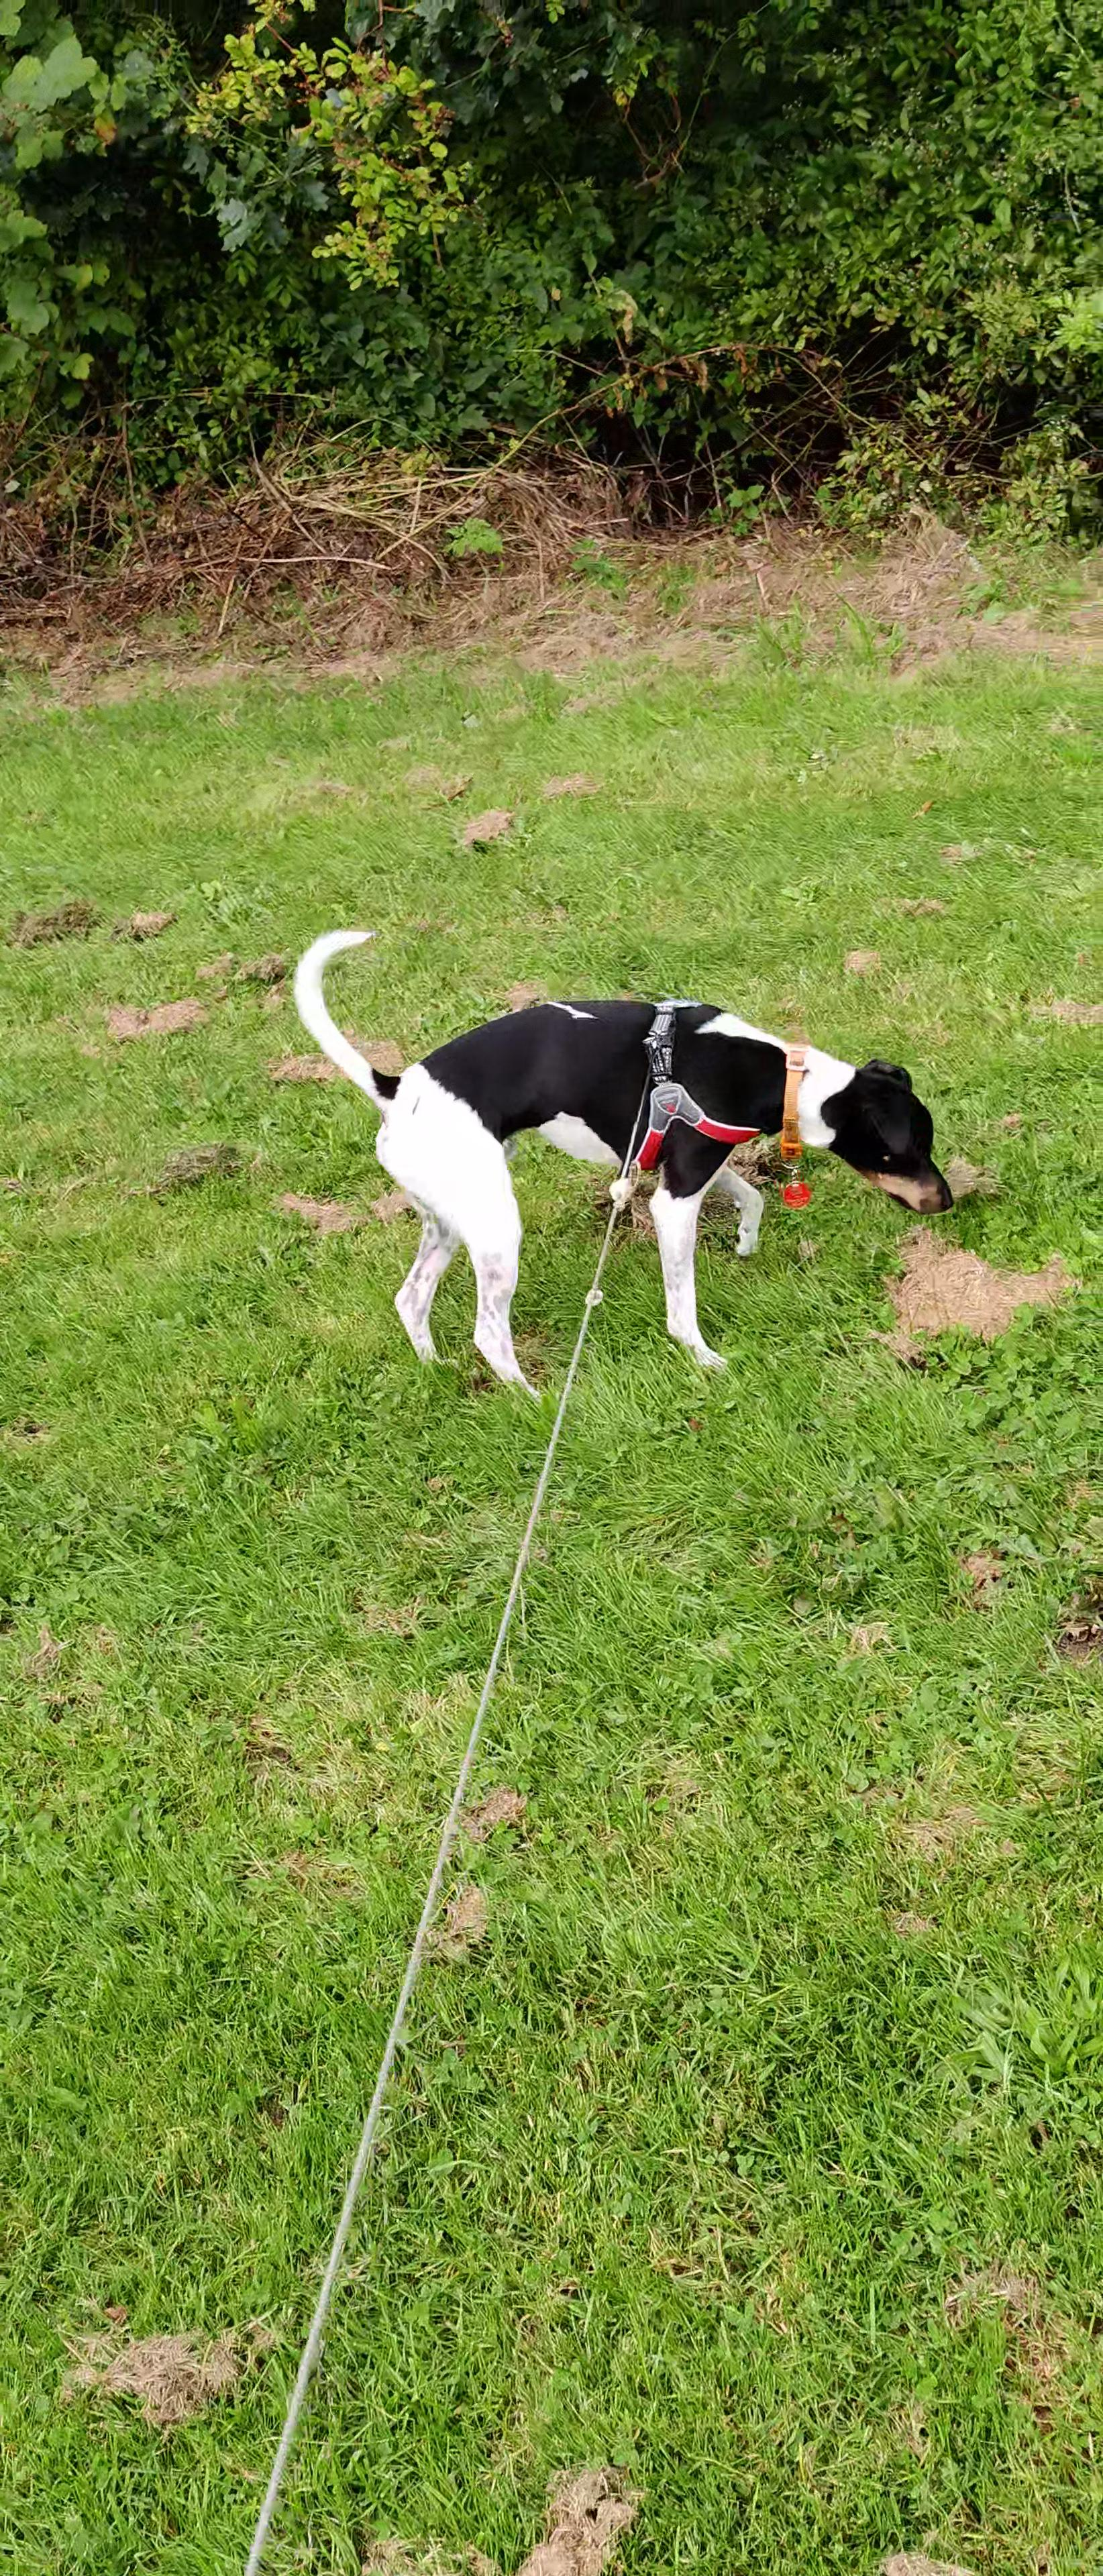Dog: (288, 912, 962, 1411)
